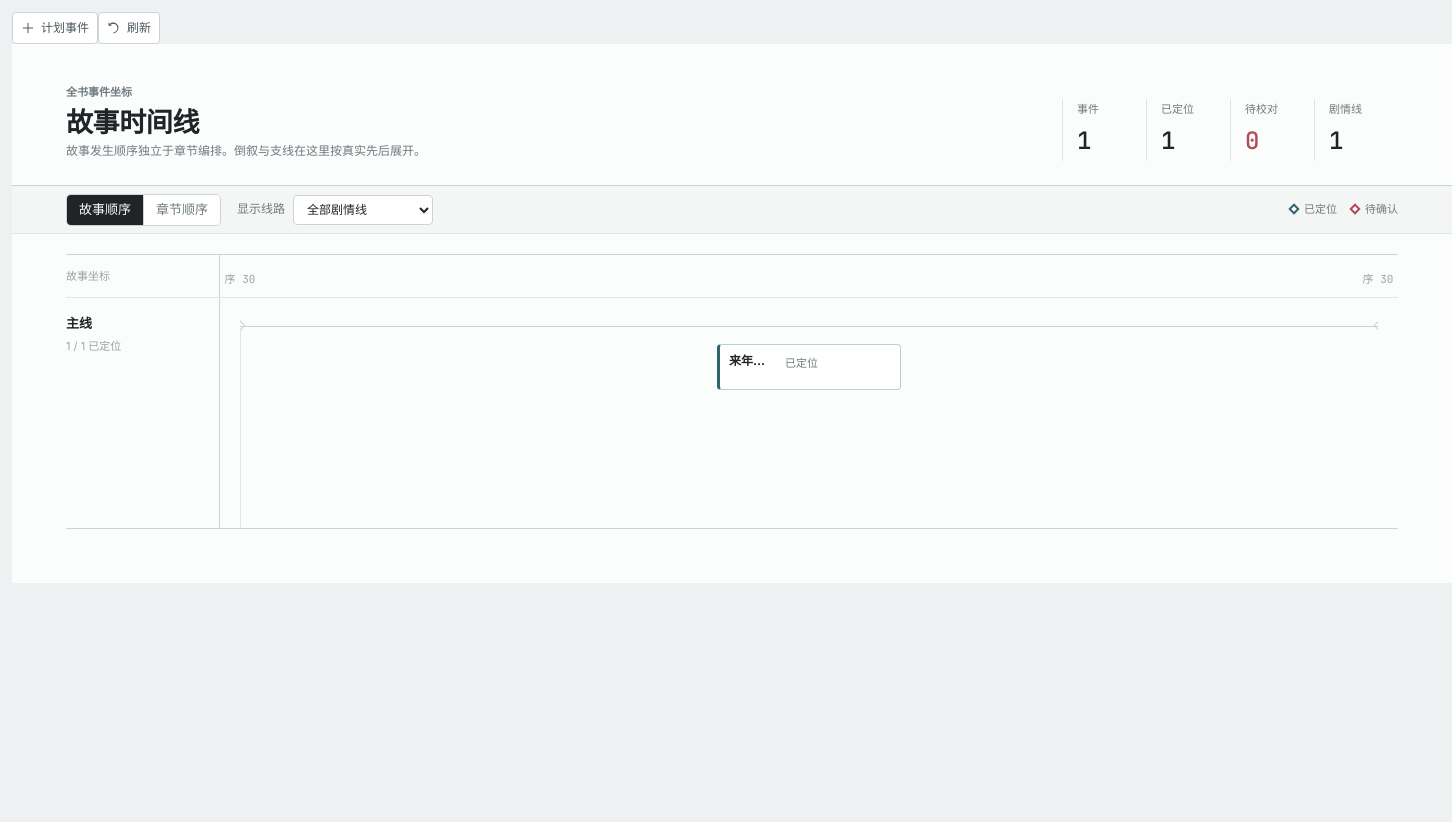
Test case: author-managed timeline events › puts a chapterless planned event in the pending area in chapter mode
Click the button "章节顺序" at (182, 210), box [144,194,220,224]
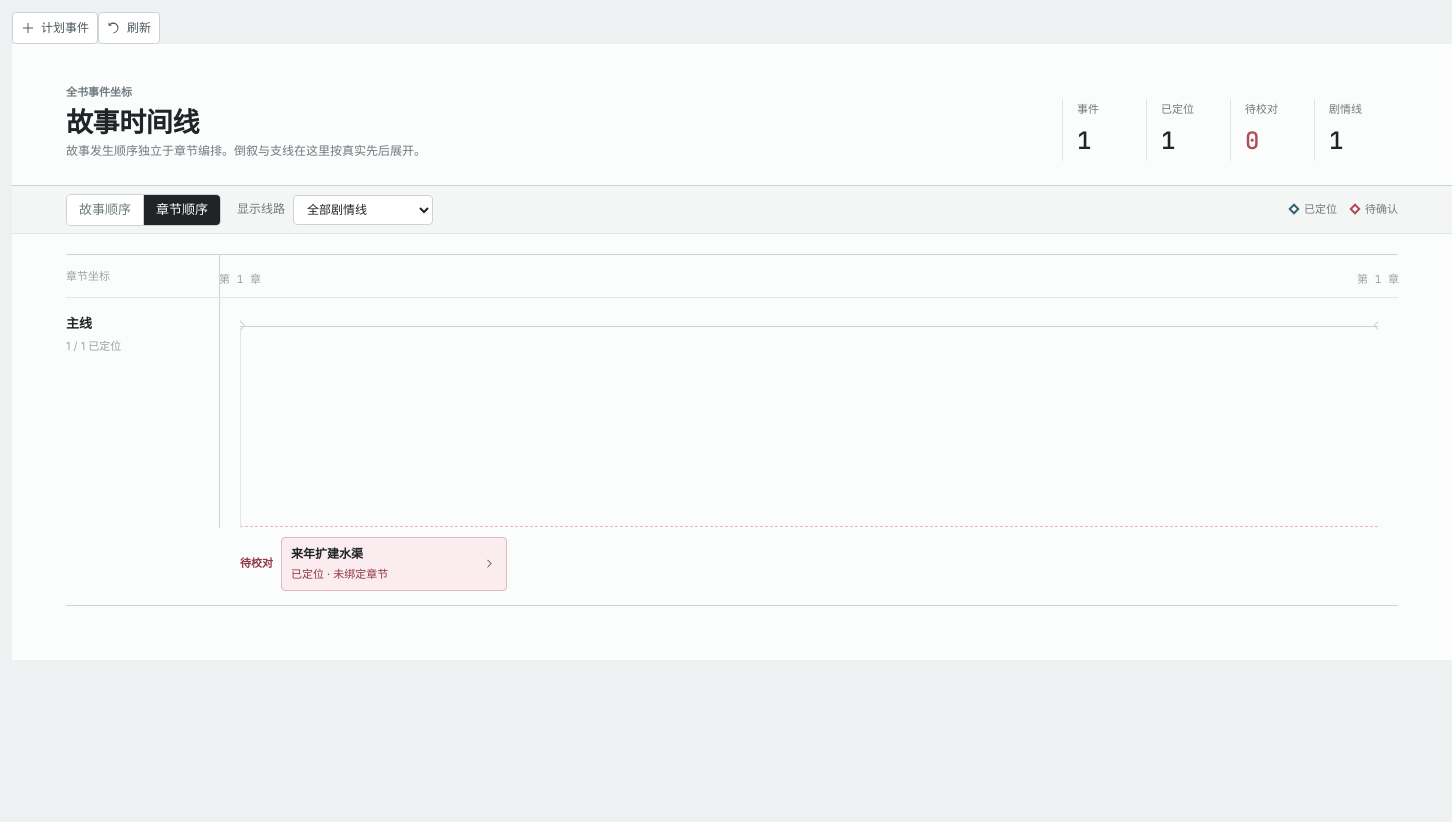
Expected: the element with class "lane-pending" shows "来年扩建水渠", [281,537,507,591]
Expected: the element with class "lane-pending" shows "未绑定章节", [281,537,507,591]
